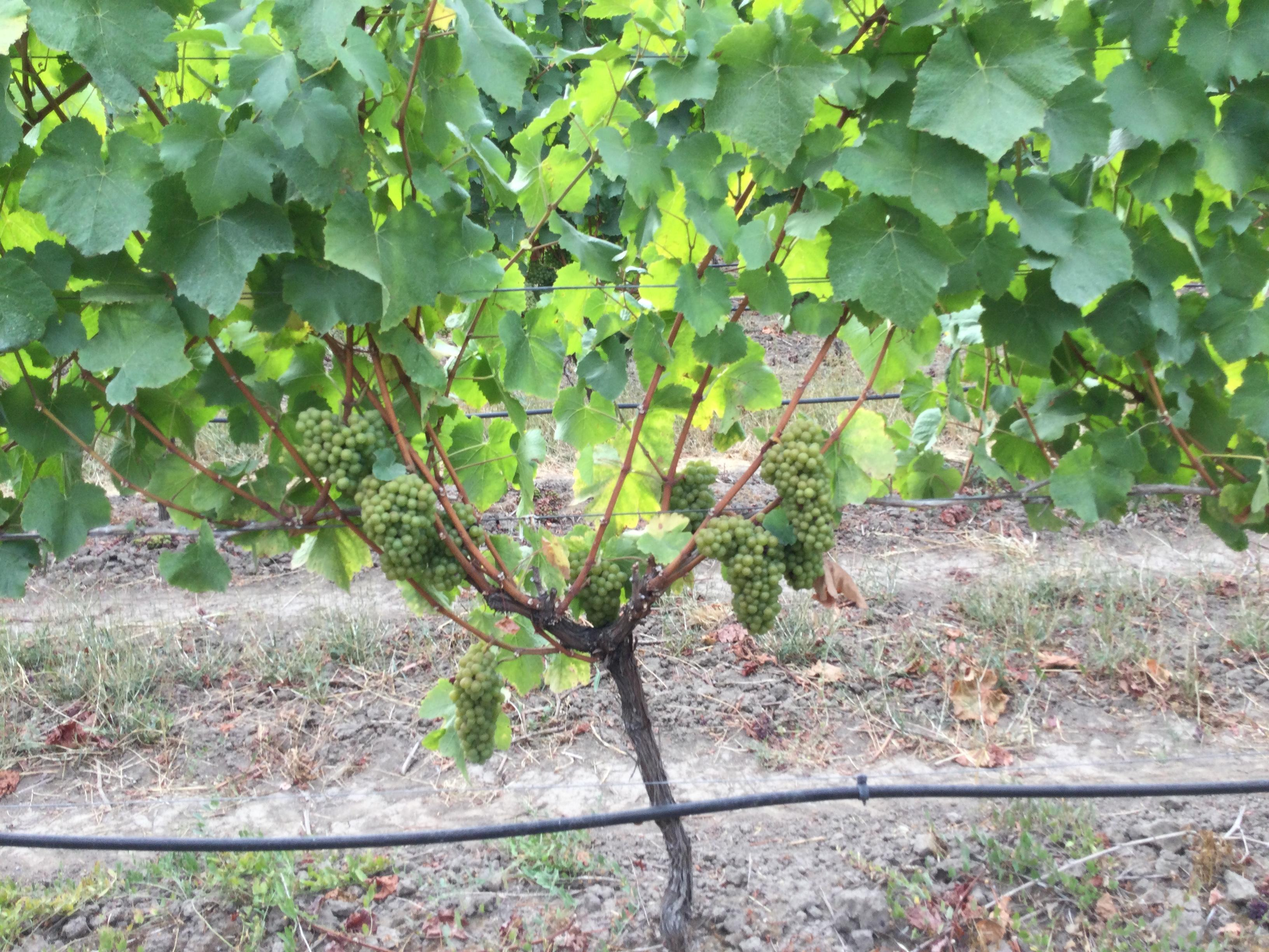leaf: (909, 2, 1082, 159), (704, 8, 844, 169), (141, 177, 293, 316), (21, 117, 161, 255), (827, 195, 960, 327), (29, 0, 176, 107), (836, 123, 988, 224), (159, 102, 275, 217), (80, 301, 191, 405), (1105, 53, 1214, 147), (979, 271, 1080, 366), (453, 0, 536, 107), (1177, 0, 1268, 86), (282, 258, 381, 332), (22, 477, 110, 559), (1042, 75, 1113, 173), (444, 418, 516, 509), (1050, 444, 1132, 522), (271, 0, 362, 66), (498, 312, 564, 399), (0, 256, 56, 353), (1102, 0, 1191, 61), (548, 212, 624, 281), (292, 526, 372, 590), (158, 522, 231, 592), (552, 384, 618, 451), (675, 263, 731, 336), (0, 539, 39, 598), (0, 0, 28, 53), (290, 142, 297, 144), (343, 113, 346, 116), (340, 109, 342, 112), (301, 136, 302, 138), (336, 107, 337, 107), (0, 596, 9, 596), (306, 540, 307, 540), (323, 530, 329, 530)
